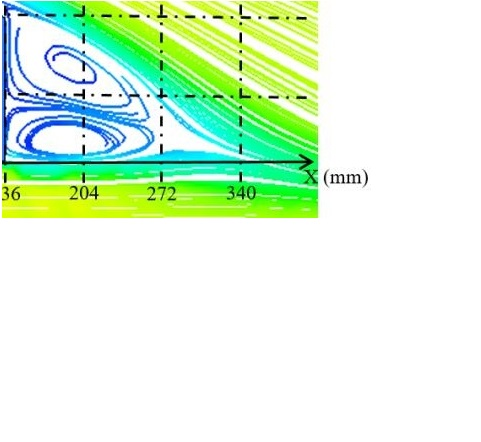vortox: (7, 26, 140, 112), (5, 107, 155, 158)
